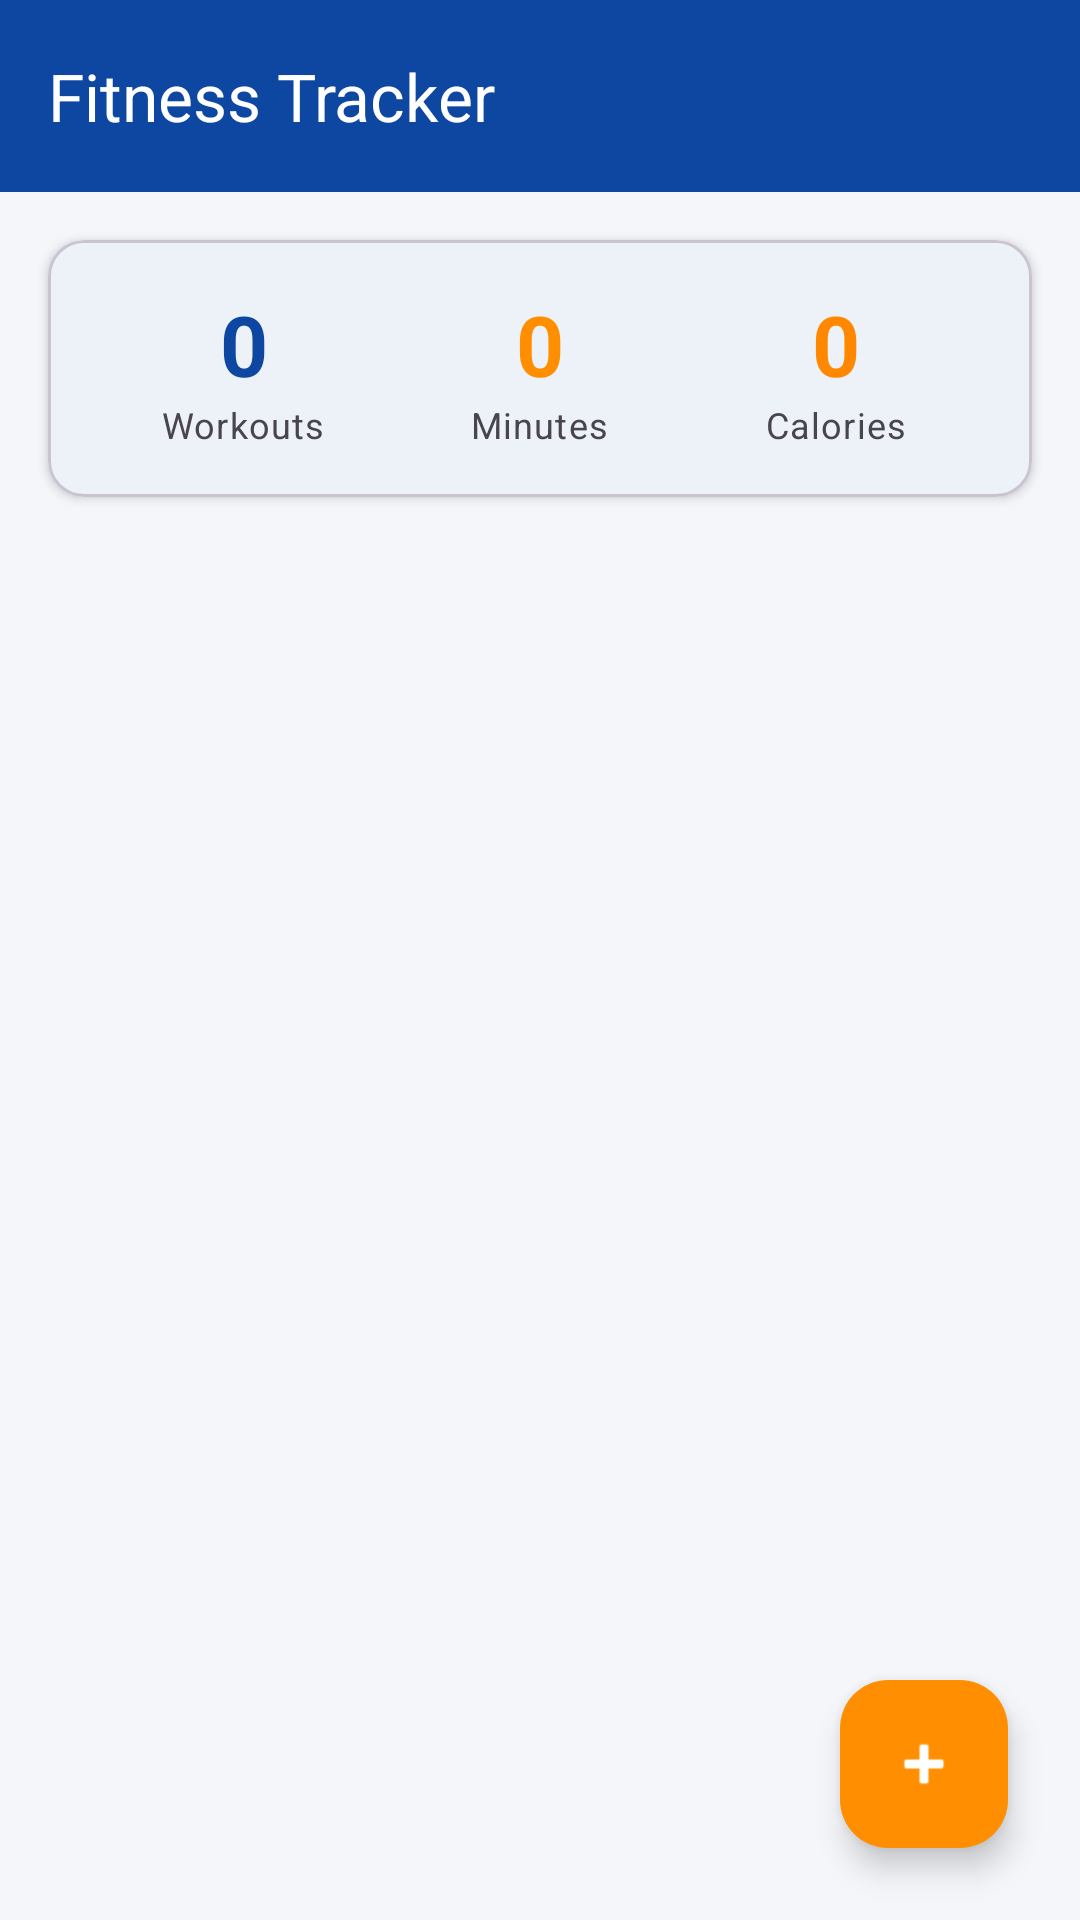

Icon bounding boxes for this 1080px x 1920px phone screenshot, format box(x1, y1, x2, y2):
Add Fitness Record: box(840, 1680, 1008, 1848)
